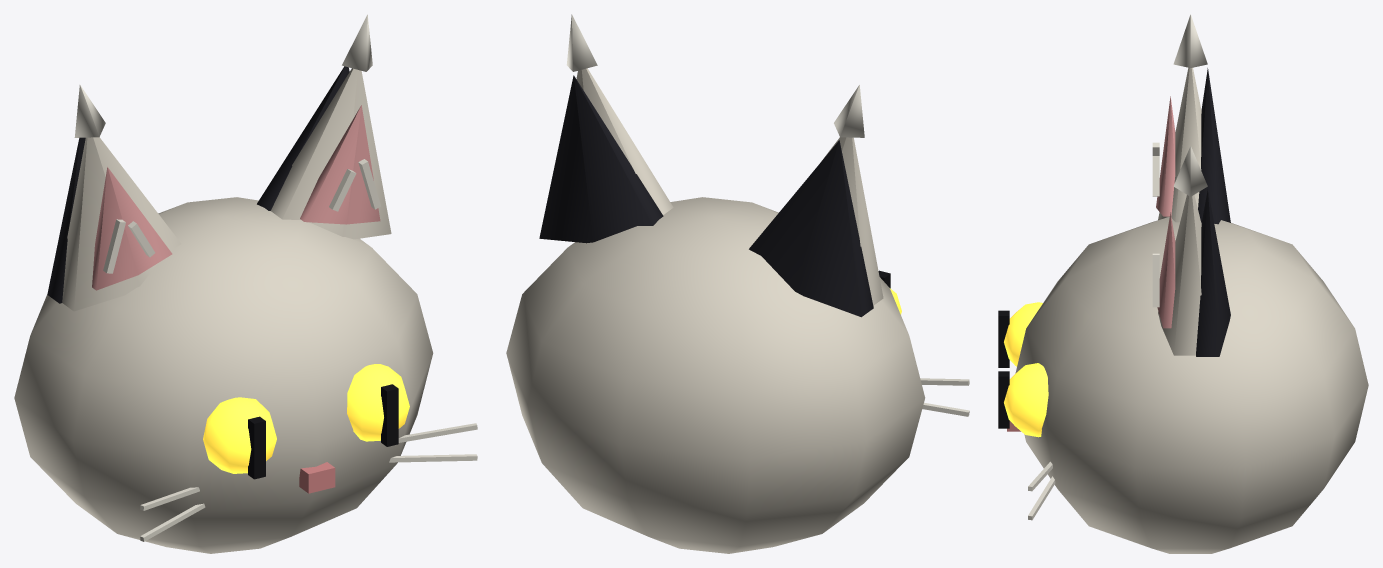
File: cat-head.glb
3 renders of one model, left to right at view 1: azimuth 30°, elevation 25°; view 2: azimuth 150°, elevation 25°; view 3: azimuth 270°, elevation 25°, orthographic. The views are drawn at different scales.
Parts seen in each view (by area): view 1: 00_paint0_r320, 01_paint0_r110, 02_#d89a9a_noshadow_r110, 05_paint1_noshadow, 04_#e8e4d8_noshadow_r110, 03_#1c1c22_noshadow_r110, 06_#101014_noshadow_r110, 07_#d88a8a_noshadow_r110; view 2: 00_paint0_r320, 03_#1c1c22_noshadow_r110, 01_paint0_r110, 04_#e8e4d8_noshadow_r110; view 3: 00_paint0_r320, 01_paint0_r110, 03_#1c1c22_noshadow_r110, 05_paint1_noshadow, 04_#e8e4d8_noshadow_r110, 02_#d89a9a_noshadow_r110, 06_#101014_noshadow_r110.
Boxes of the visible parts, <box> form: 00_paint0_r320: <box>14,197,433,553</box>; 01_paint0_r110: <box>62,68,391,311</box>; 02_#d89a9a_noshadow_r110: <box>92,105,380,290</box>; 05_paint1_noshadow: <box>203,364,409,473</box>; 04_#e8e4d8_noshadow_r110: <box>74,14,477,541</box>; 03_#1c1c22_noshadow_r110: <box>47,66,349,303</box>; 06_#101014_noshadow_r110: <box>248,384,398,479</box>; 07_#d88a8a_noshadow_r110: <box>299,462,335,493</box>; 00_paint0_r320: <box>506,197,925,553</box>; 03_#1c1c22_noshadow_r110: <box>539,75,873,317</box>; 01_paint0_r110: <box>576,68,883,305</box>; 04_#e8e4d8_noshadow_r110: <box>566,14,969,416</box>; 00_paint0_r320: <box>1015,217,1368,553</box>; 01_paint0_r110: <box>1158,67,1201,355</box>; 03_#1c1c22_noshadow_r110: <box>1196,68,1230,356</box>; 05_paint1_noshadow: <box>1004,302,1048,437</box>; 04_#e8e4d8_noshadow_r110: <box>1028,14,1207,520</box>; 02_#d89a9a_noshadow_r110: <box>1156,96,1175,328</box>; 06_#101014_noshadow_r110: <box>998,310,1009,428</box>.
Size of the model in its own units: 0.6781 by 0.8724 by 0.645.
